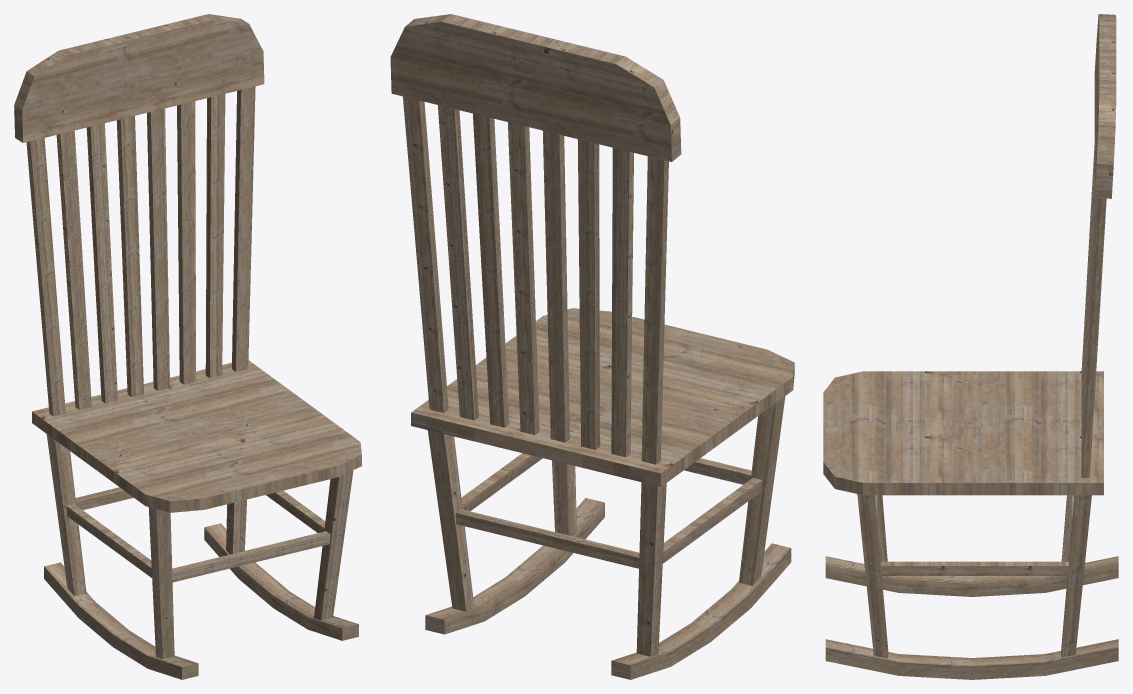
The model's file is RockingChair.fbx.
The picture shows the model from 3 angles, left to right: view 1: azimuth 30°, elevation 25°; view 2: azimuth 150°, elevation 25°; view 3: azimuth 270°, elevation 25°; orthographic projection. The views are drawn at different scales.
Visible parts, largest first — view 1: Cube.004; view 2: Cube.004; view 3: Cube.004.
Part boxes in pixels (x1=…): Cube.004: x1=14, y1=14, x2=361, y2=679; Cube.004: x1=390, y1=14, x2=794, y2=679; Cube.004: x1=823, y1=14, x2=1118, y2=679.
Size of the model in its own units: 76.07 by 164 by 75.94.
